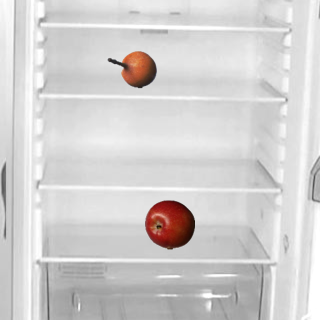Apple Braeburn: (144, 199, 194, 249)
Granadilla: (106, 44, 156, 94)
